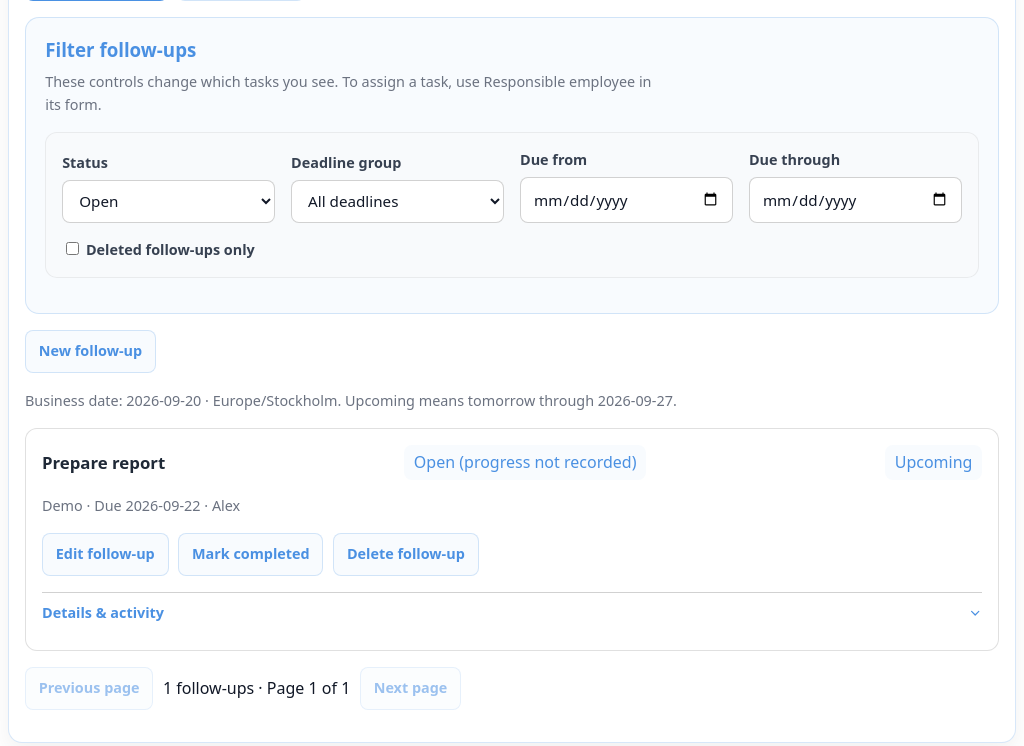
it: manual save confirms an already saved form without another write
This screenshot has width=1024, height=746.
(page scrolled)
Click the button "Edit follow-up": (105, 554) [42,533,168,576]
(page scrolled)
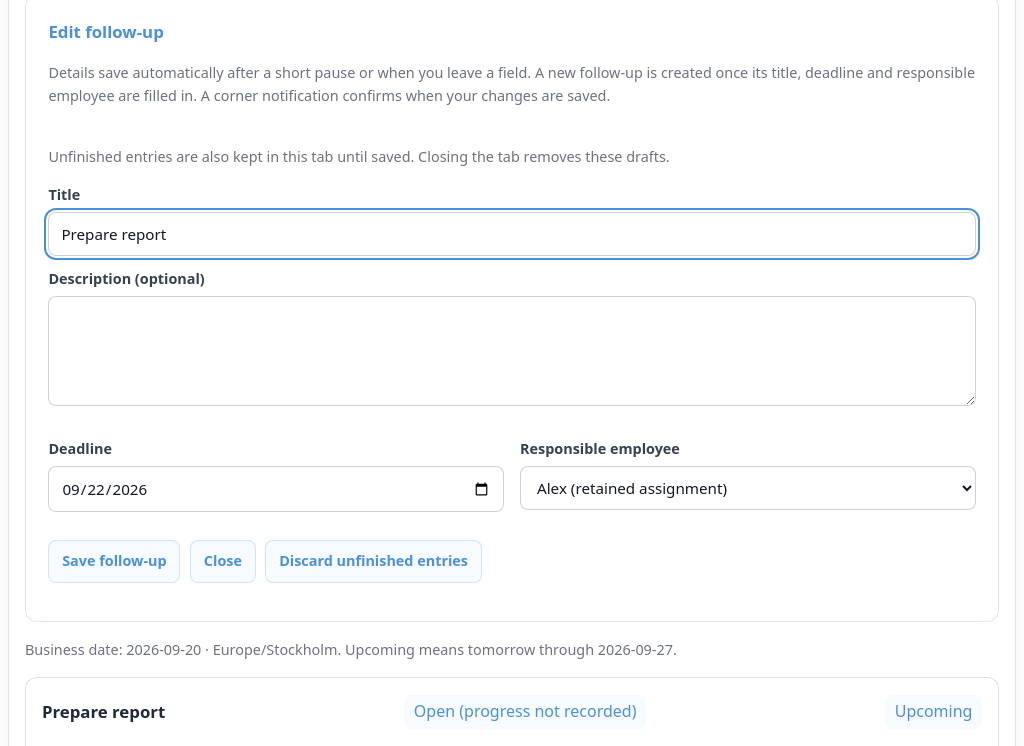
Click the button "Save follow-up": (114, 561) [48,540,180,582]
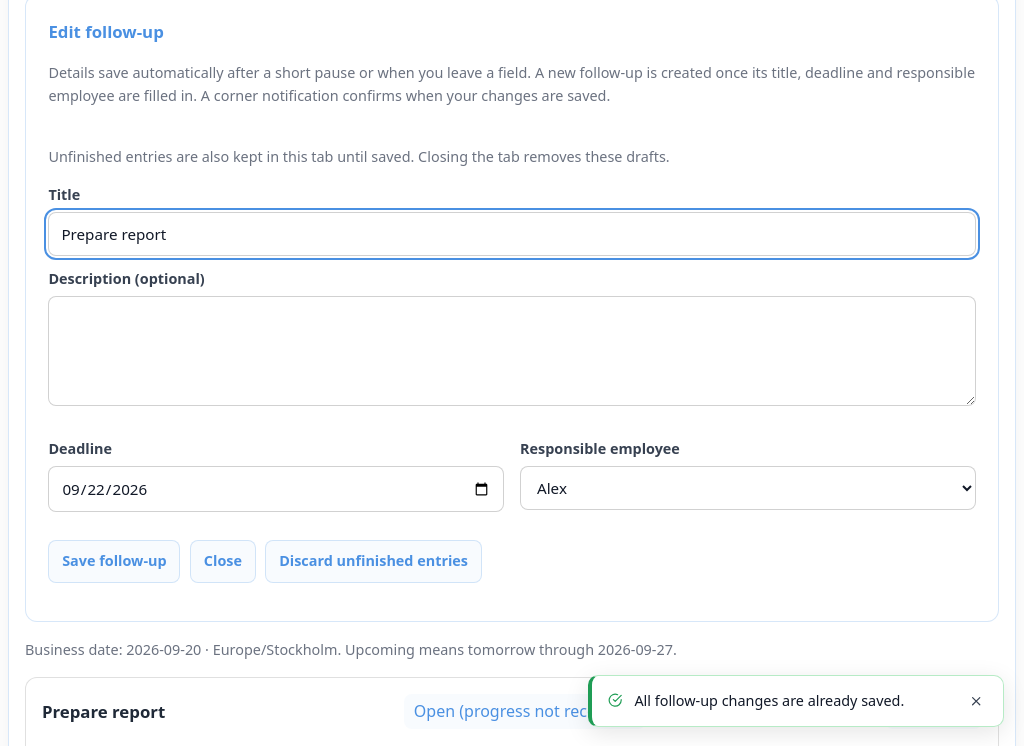
Now the text "All follow-up changes are already saved." is shown, box [634,691,904,710]
